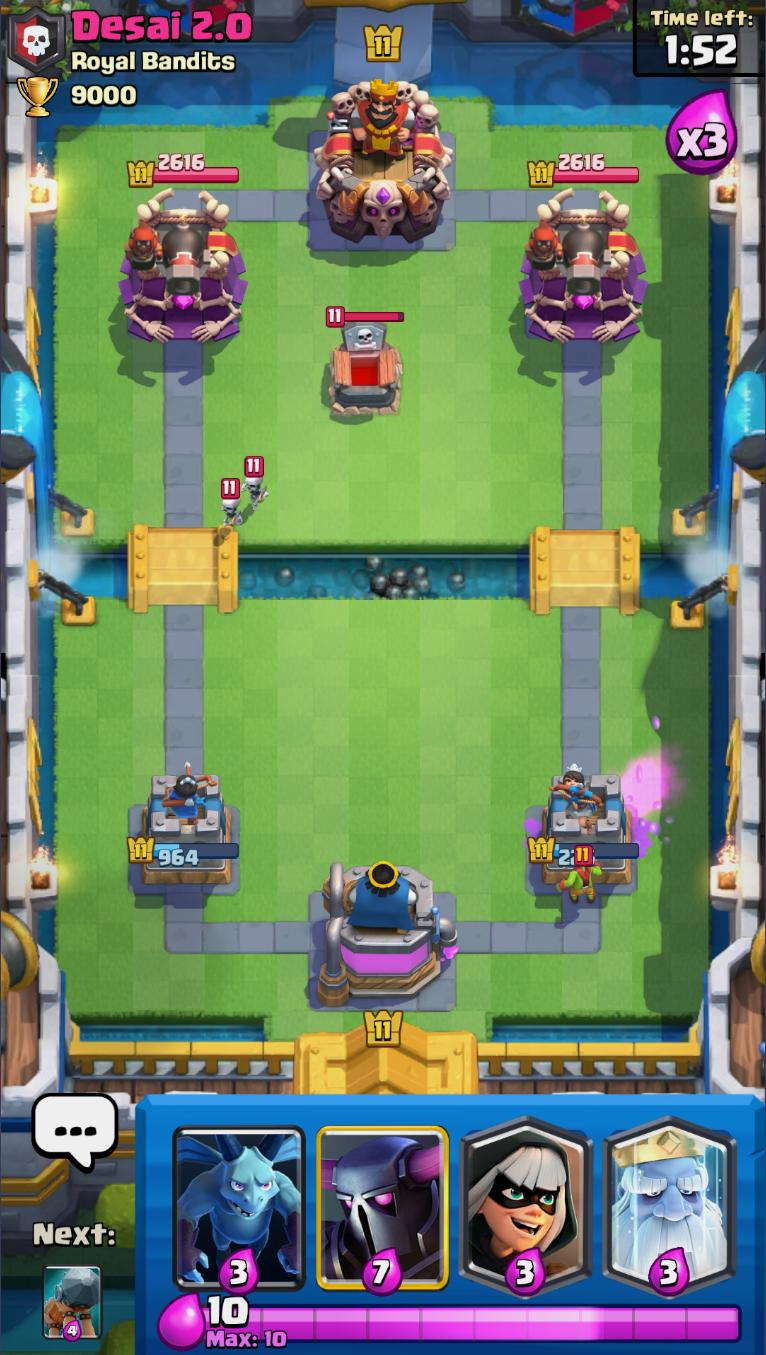BanditDeck: (456, 1096, 597, 1293)
BattleRamNext: (41, 1261, 101, 1346)
Cannoneer: (524, 214, 609, 300), (127, 216, 207, 300)
Elixir: (203, 1296, 743, 1346)
EnemyTower: (121, 187, 250, 343), (520, 189, 650, 343)
Goblin: (556, 846, 607, 913)
KingTower: (314, 77, 456, 246)
MinionsDeck: (167, 1094, 313, 1294)
MyKingTower: (319, 860, 457, 1011)
MyPrincessTower: (527, 774, 641, 890), (127, 776, 241, 890)
MyPrincessTowerHP: (127, 833, 241, 869), (526, 836, 641, 869)
PekkaDeck: (310, 1094, 456, 1299)
RoyaleGhostDeck: (596, 1096, 741, 1293)
Skeleton: (214, 477, 244, 533), (240, 456, 271, 510)
Tombstone: (320, 303, 409, 423)
TowerPrincessHP: (129, 153, 241, 189), (529, 153, 640, 189)
